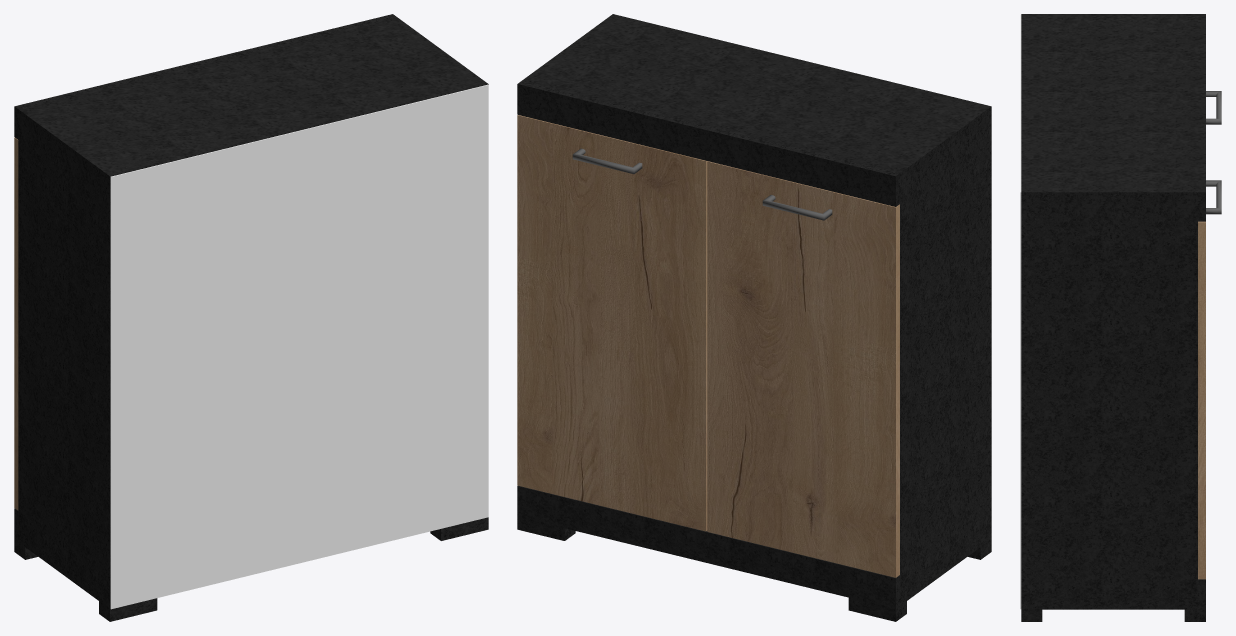
File: commod_bristol.glb
3 views of the same model, side by side, from view 1: azimuth 30°, elevation 25°; view 2: azimuth 150°, elevation 25°; view 3: azimuth 270°, elevation 25° (orthographic). The views are drawn at different scales.
Parts seen in each view (by area): view 1: Bristol-backplate; view 2: Bristol-backplate; view 3: Bristol-backplate.
Boxes of the visible parts, x1,y1,x2,y2 form: Bristol-backplate: [14, 14, 488, 621]; Bristol-backplate: [517, 14, 991, 621]; Bristol-backplate: [1020, 14, 1221, 621].
Bounding box in the file's own units: 0.8 × 0.9 × 0.382.
Materials: 4 (2 with a texture image).
